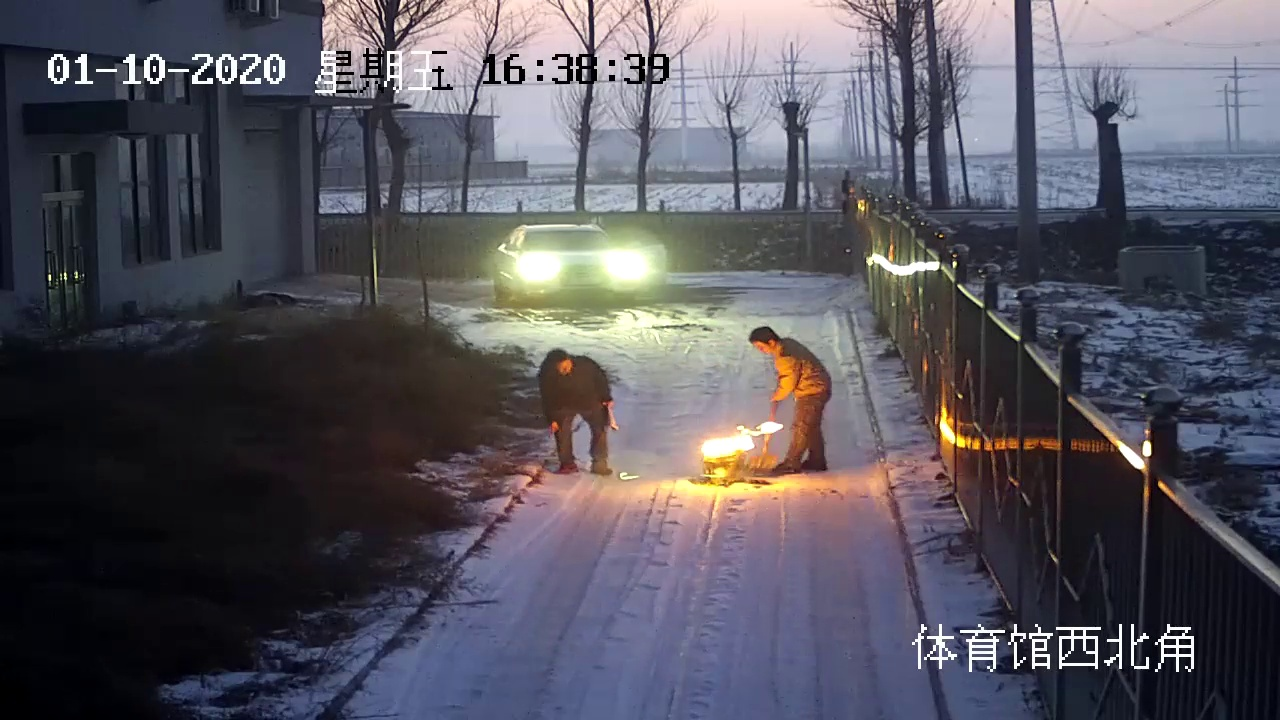fire: (695, 425, 756, 456)
